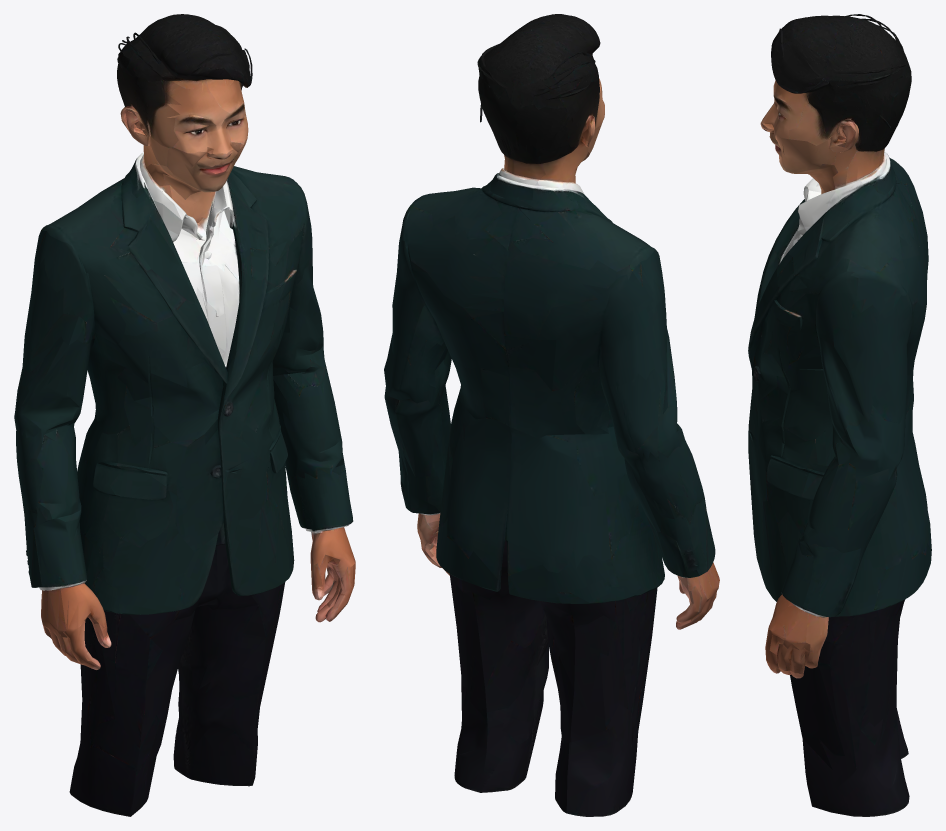
File: resepsionis-pria.glb
3 views of the same model, side by side, from view 1: azimuth 30°, elevation 25°; view 2: azimuth 150°, elevation 25°; view 3: azimuth 270°, elevation 25° (orthographic). The views are drawn at different scales.
Bounding box in the file's own units: 0.8091 × 1.9 × 0.4159.
Materials: 1 (1 with a texture image).
